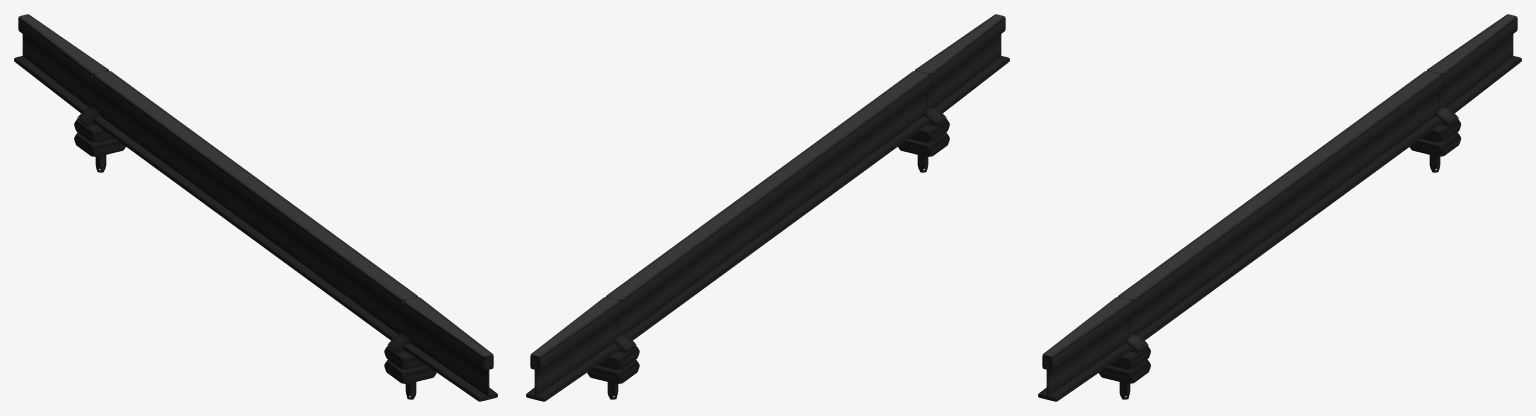
File: 4th_rail.obj
The picture shows the model from 3 angles, left to right: view 1: azimuth 30°, elevation 25°; view 2: azimuth 150°, elevation 25°; view 3: azimuth 330°, elevation 25°; orthographic projection.
Visible parts, largest first — view 1: cube; view 2: cube; view 3: cube.
Part boxes in pixels (x1,y1,x2,y2): cube: (14, 14, 497, 401); cube: (526, 14, 1009, 401); cube: (1038, 14, 1521, 401).
Size of the model in its own units: 0.1458 by 0.3531 by 3.
1 material, 1 textured.
